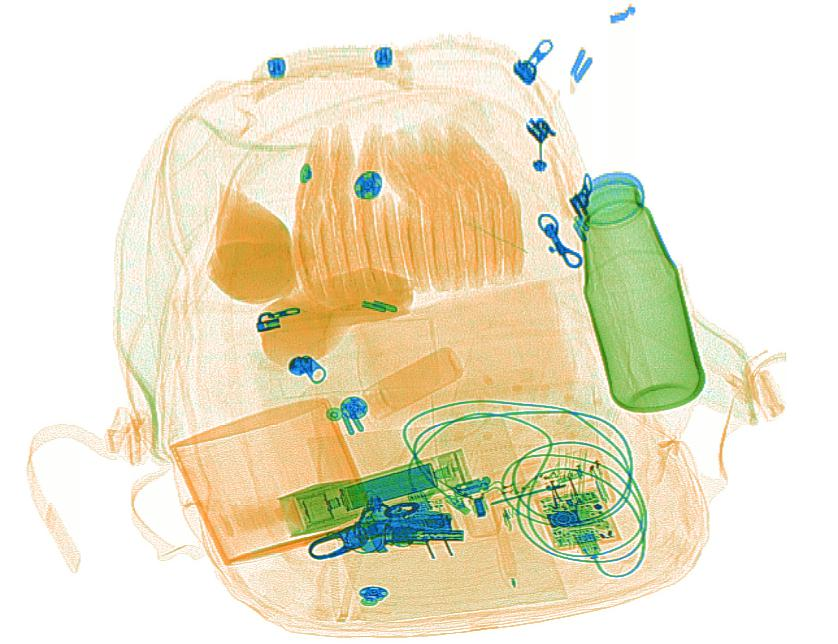battery: (337, 463, 440, 510)
